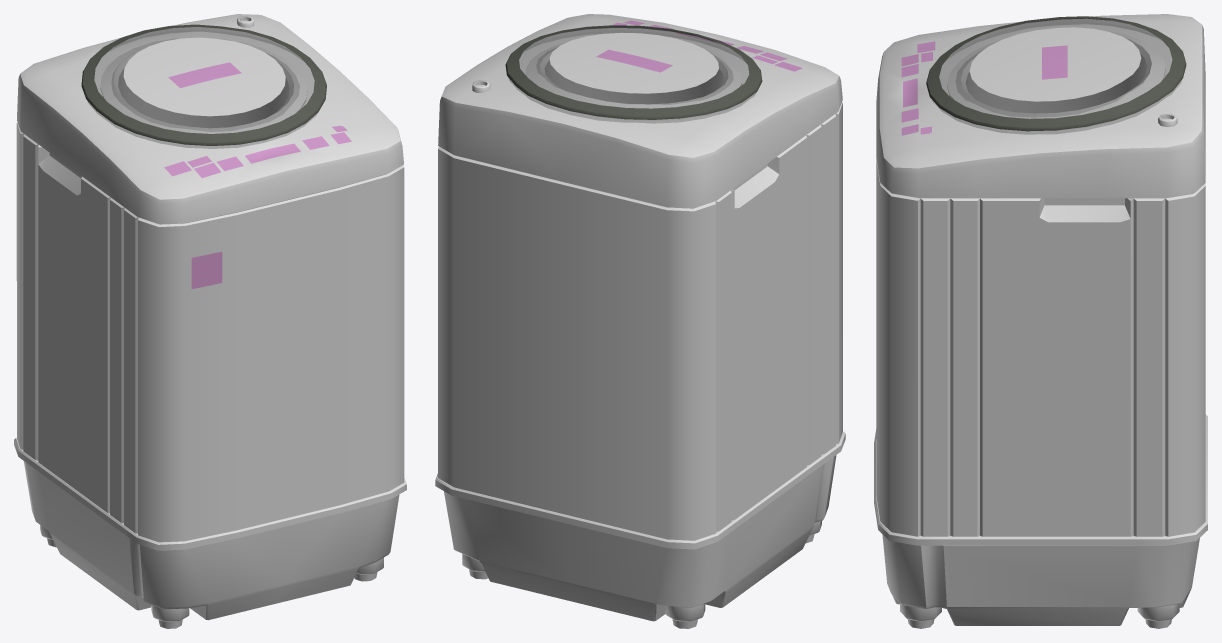
The model's file is HAIERXQBM30968.FBX.
3 views of the same model, side by side, from view 1: azimuth 30°, elevation 25°; view 2: azimuth 150°, elevation 25°; view 3: azimuth 270°, elevation 25° (orthographic). The views are drawn at different scales.
Parts seen in each view (by area): view 1: HAIERXQBM30968; view 2: HAIERXQBM30968; view 3: HAIERXQBM30968.
Part boxes in pixels (x1,y1,x2,y2): HAIERXQBM30968: [14, 14, 406, 628]; HAIERXQBM30968: [435, 14, 845, 628]; HAIERXQBM30968: [874, 14, 1207, 628].
Bounding box in the file's own units: 1111 × 1930 × 1133.
